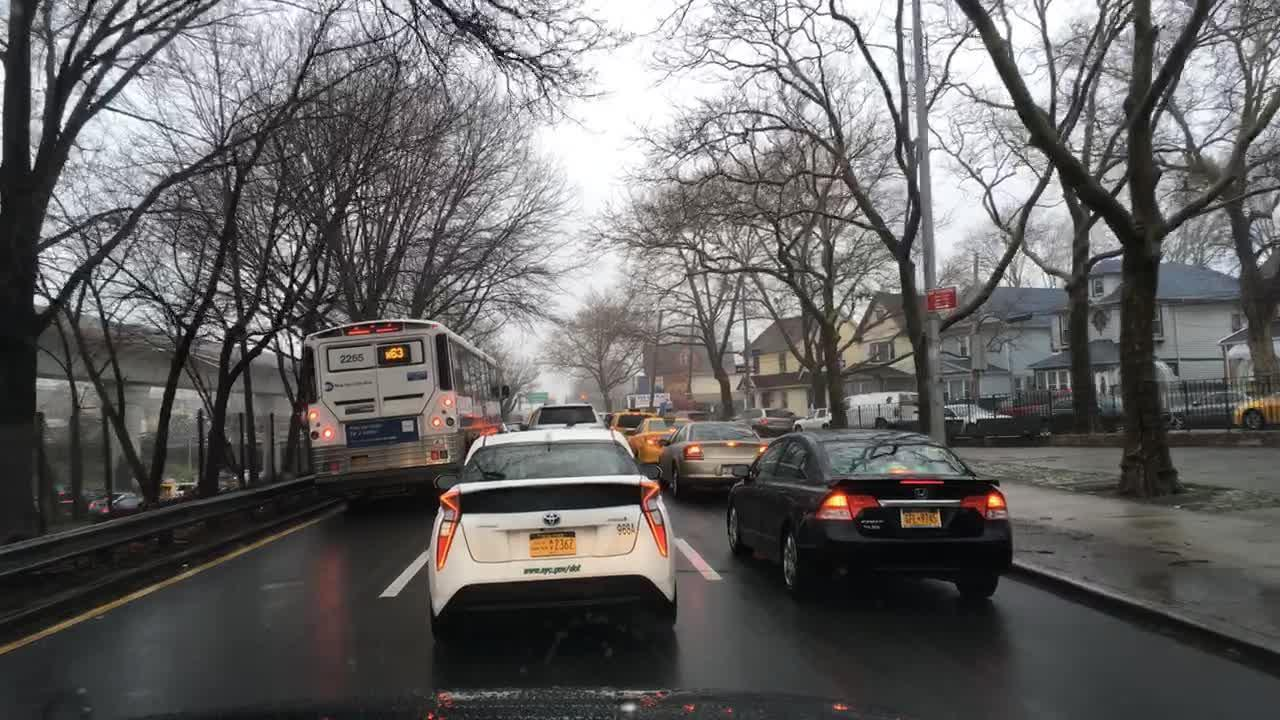Honda: (906, 483, 938, 505)
Toyota: (536, 507, 564, 529)
